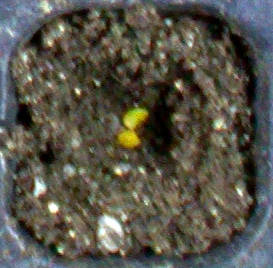pepper seed: (44, 50, 187, 200), (46, 42, 196, 174)
